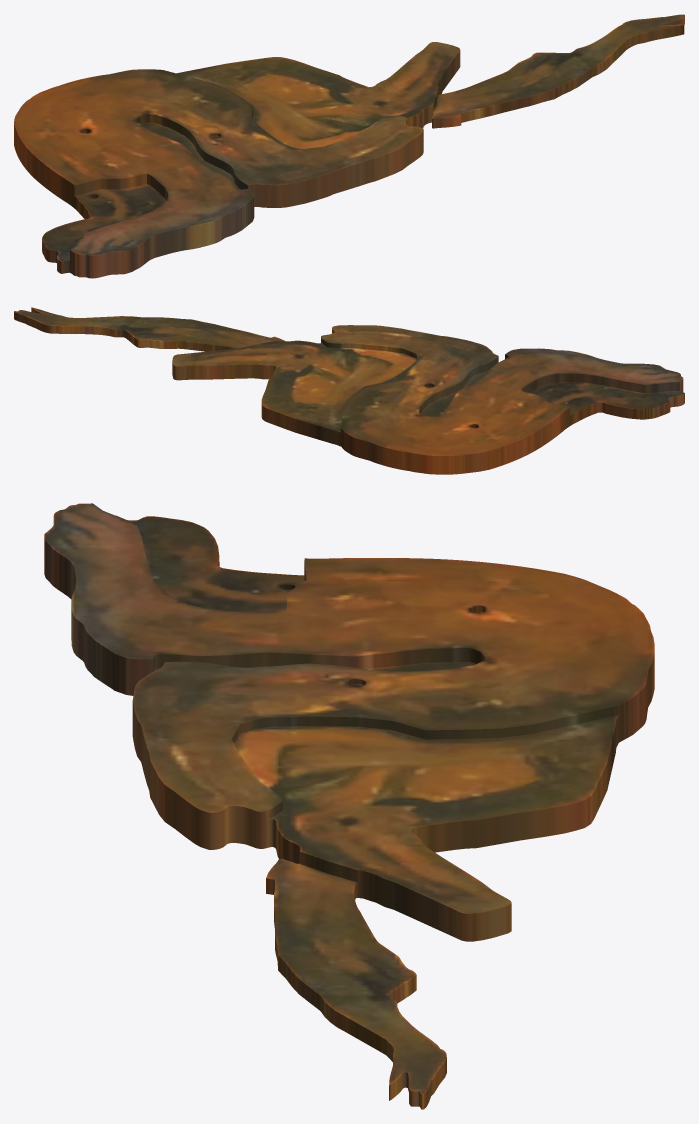
File: Panama 5.dae
The picture shows the model from 3 angles, top to bottom: view 1: azimuth 30°, elevation 25°; view 2: azimuth 150°, elevation 25°; view 3: azimuth 270°, elevation 25°; orthographic projection. The views are drawn at different scales.
Visible parts, largest first — view 1: SketchUp (×2); view 2: SketchUp (×2); view 3: SketchUp (×2).
Part boxes in pixels (x1,y1,x2,y2): SketchUp (×2): [14, 14, 684, 278]; SketchUp (×2): [14, 307, 684, 474]; SketchUp (×2): [44, 503, 654, 1109].
Size of the model in its own units: 49.94 by 22.39 by 1.5.
Materials: 1 (1 with a texture image).
